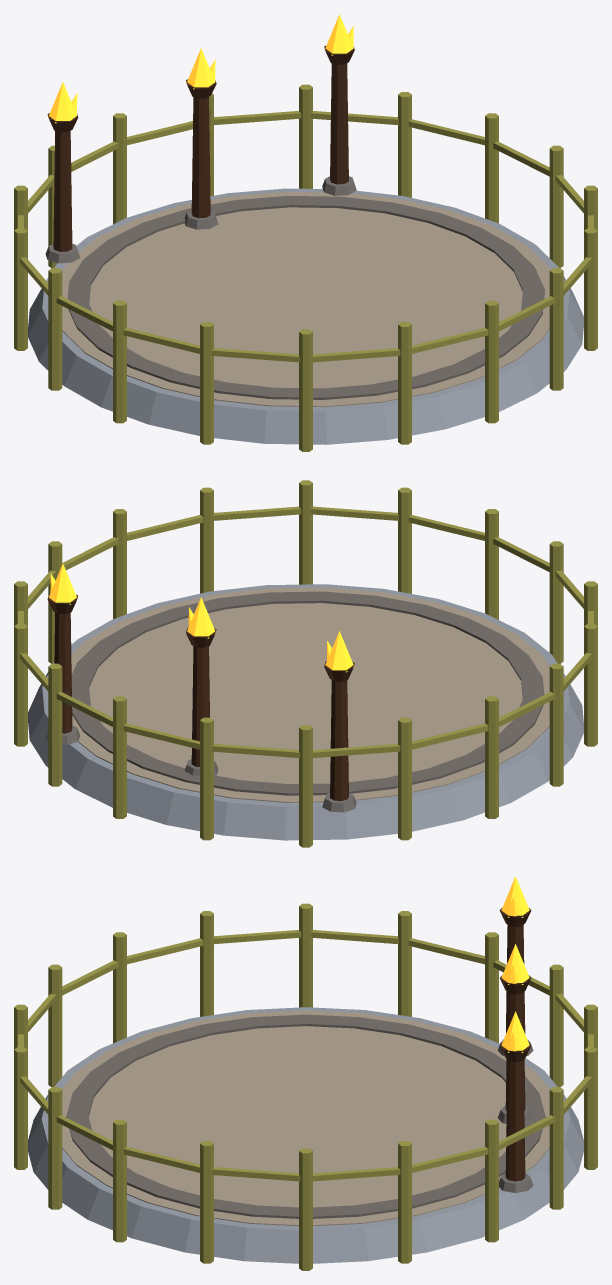
The model's file is panggung_uji_v001.glb.
The picture shows the model from 3 angles, top to bottom: view 1: azimuth 30°, elevation 25°; view 2: azimuth 150°, elevation 25°; view 3: azimuth 270°, elevation 25°; orthographic projection.
Visible parts, largest first — view 1: Arena_Uji, Pagar_Uji, Cincin_Aksen, Api_2_Nyala, Api_3_Nyala, Api_1_Nyala; view 2: Arena_Uji, Pagar_Uji, Cincin_Aksen, Api_2_Nyala, Api_3_Nyala, Api_1_Nyala; view 3: Arena_Uji, Pagar_Uji, Cincin_Aksen, Api_1_Nyala, Api_3_Nyala, Api_2_Nyala.
Boxes of the visible parts, x1,y1,x2,y2 form: Arena_Uji: (28, 46, 583, 444); Pagar_Uji: (14, 84, 597, 451); Cincin_Aksen: (67, 196, 544, 399); Api_2_Nyala: (186, 48, 215, 89); Api_3_Nyala: (324, 14, 353, 55); Api_1_Nyala: (48, 82, 77, 123); Arena_Uji: (28, 584, 583, 840); Pagar_Uji: (14, 480, 597, 847); Cincin_Aksen: (71, 591, 544, 795); Api_2_Nyala: (187, 597, 215, 638); Api_3_Nyala: (49, 563, 77, 604); Api_1_Nyala: (325, 631, 354, 672); Arena_Uji: (28, 907, 583, 1263); Pagar_Uji: (14, 903, 597, 1270); Cincin_Aksen: (66, 1014, 545, 1218); Api_1_Nyala: (501, 876, 529, 917); Api_3_Nyala: (501, 1011, 529, 1052); Api_2_Nyala: (501, 944, 529, 984).
Bounding box in the file's own units: 5.92 × 2.24 × 5.85.
